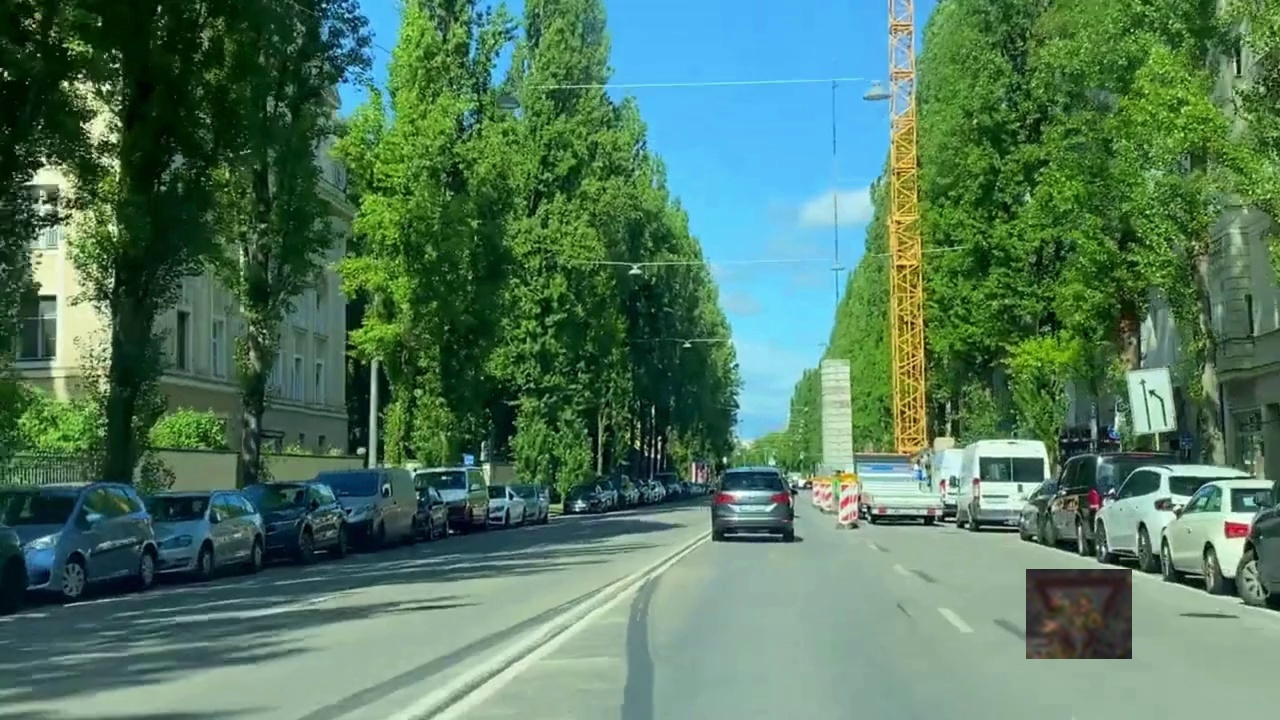Yield: (1026, 569, 1132, 659)
